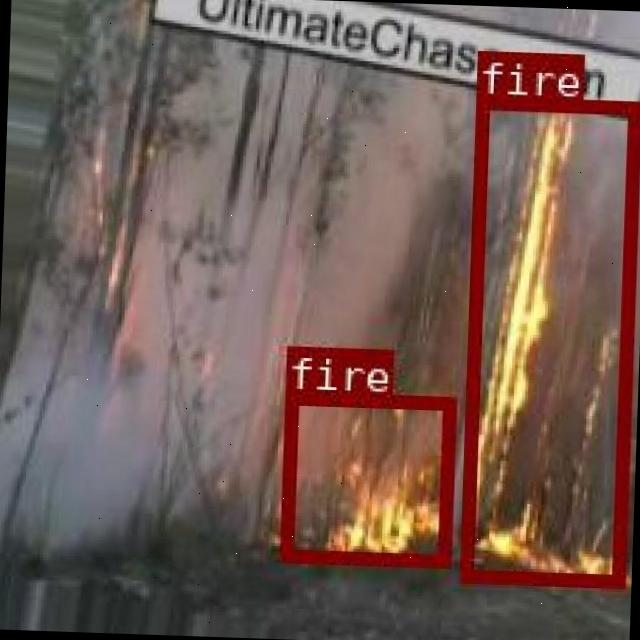fire: (456, 94, 639, 584), (278, 390, 452, 566)
